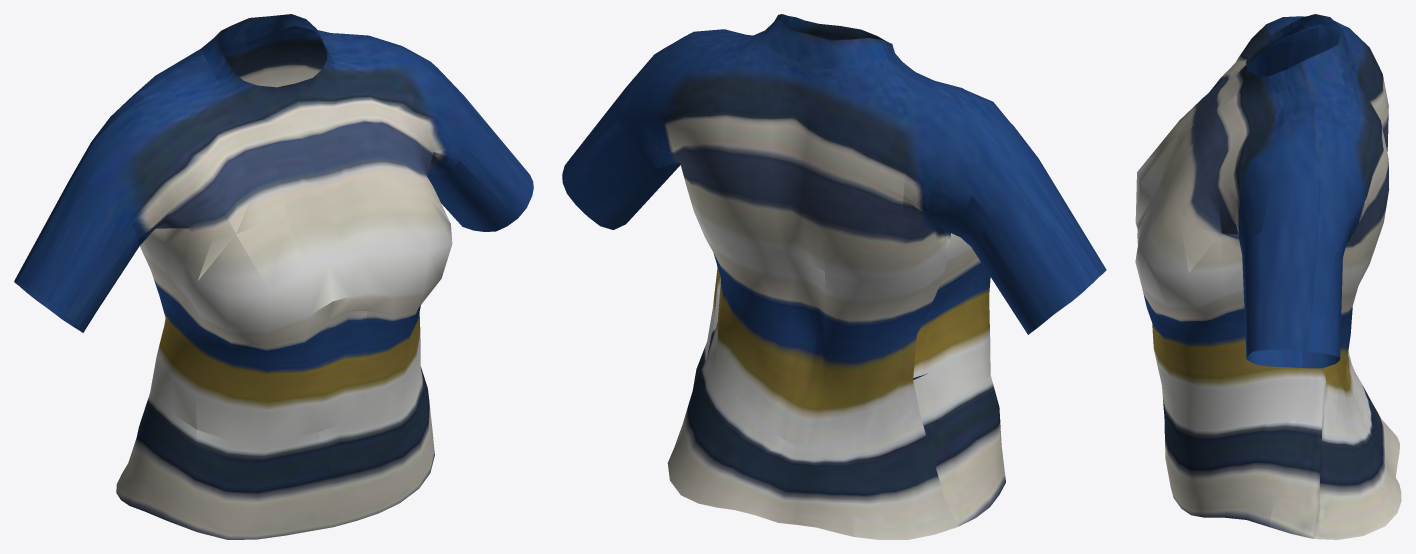
Rendered from TXL_SMF.dae.
3 views of the same model, side by side, from view 1: azimuth 30°, elevation 25°; view 2: azimuth 150°, elevation 25°; view 3: azimuth 270°, elevation 25° (orthographic). The views are drawn at different scales.
Visible parts, largest first — view 1: TL; view 2: TL; view 3: TL.
Boxes of the visible parts, x1,y1,x2,y2 form: TL: (14, 14, 533, 539); TL: (562, 14, 1106, 539); TL: (1135, 14, 1401, 539).
Bounding box in the file's own units: 6.16 × 5.26 × 2.85.
